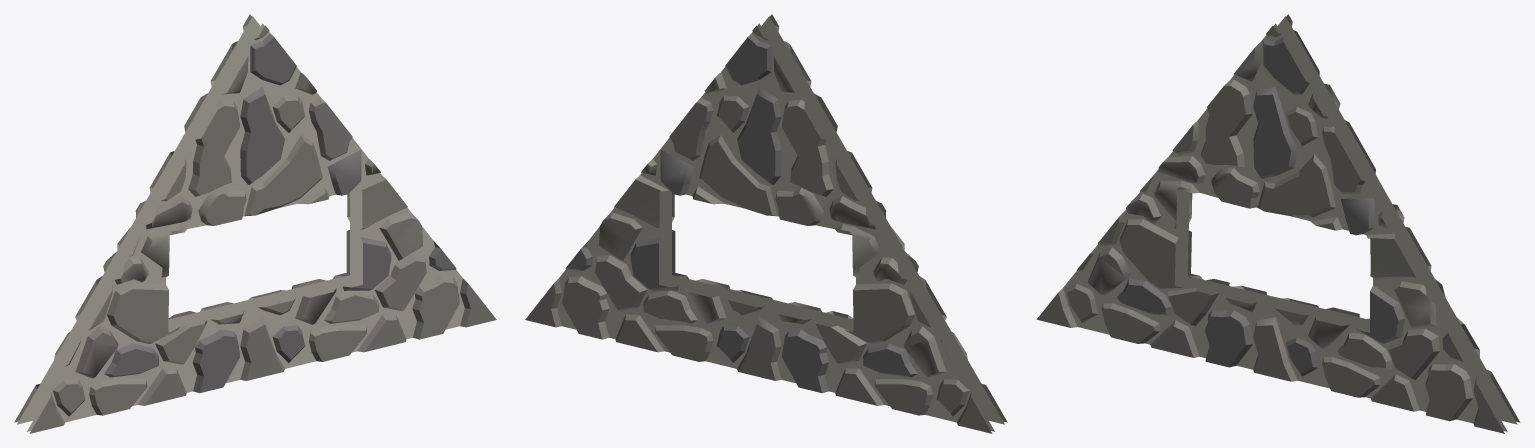
The model's file is rpgpp_ag_roof_end_01_6x5_wall_window_04b.fbx.
3 views of the same model, side by side, from view 1: azimuth 30°, elevation 25°; view 2: azimuth 150°, elevation 25°; view 3: azimuth 330°, elevation 25° (orthographic).
Visible parts, largest first — view 1: rpgpp_ag_roof_end_01_6x5_wall_window_04b; view 2: rpgpp_ag_roof_end_01_6x5_wall_window_04b; view 3: rpgpp_ag_roof_end_01_6x5_wall_window_04b.
Part boxes in pixels (x1=…): rpgpp_ag_roof_end_01_6x5_wall_window_04b: x1=14, y1=14, x2=496, y2=433; rpgpp_ag_roof_end_01_6x5_wall_window_04b: x1=525, y1=14, x2=1007, y2=433; rpgpp_ag_roof_end_01_6x5_wall_window_04b: x1=1036, y1=14, x2=1520, y2=433.
Size of the model in its own units: 6.38 by 4.58 by 0.404.
